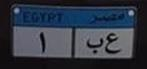1: (39, 30, 48, 54)
ain: (105, 30, 119, 56)
baa: (87, 35, 103, 55)
